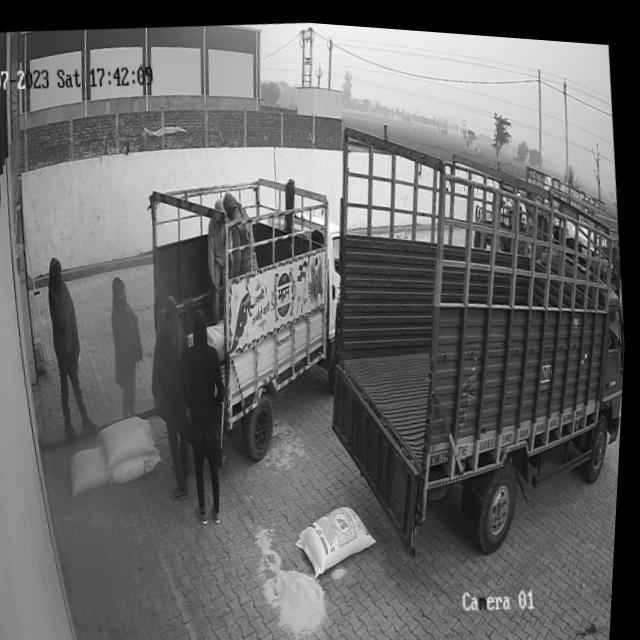sack: (295, 494, 385, 577), (100, 409, 162, 469), (70, 440, 116, 497), (113, 444, 168, 486)
